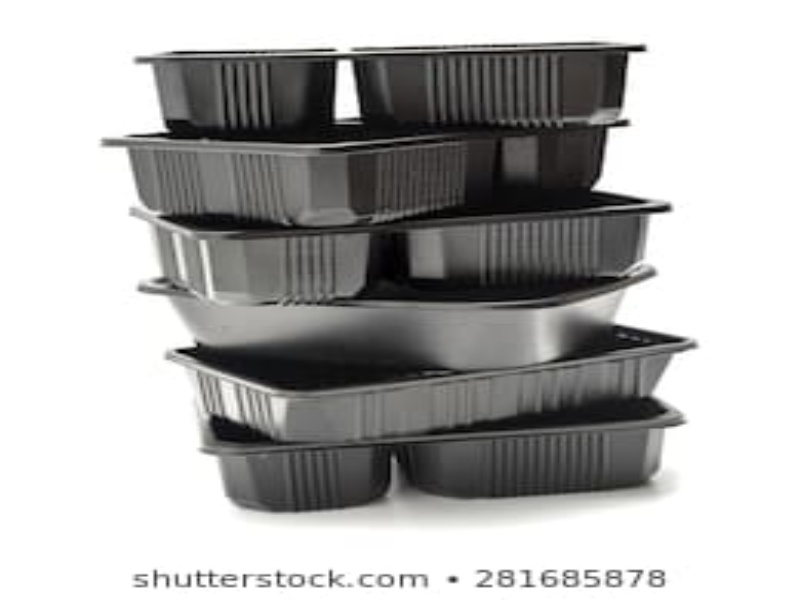plastic-container: (162, 324, 700, 441), (187, 400, 709, 512), (132, 266, 660, 375), (107, 116, 623, 224), (125, 188, 682, 286), (349, 37, 644, 119), (138, 42, 345, 131)
